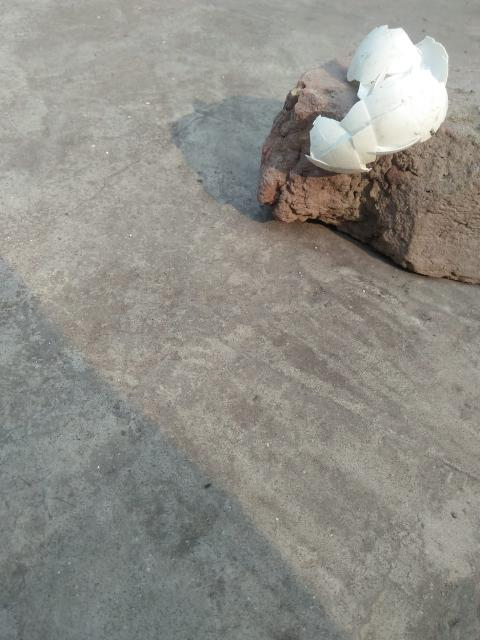Roto: (304, 24, 450, 174)
